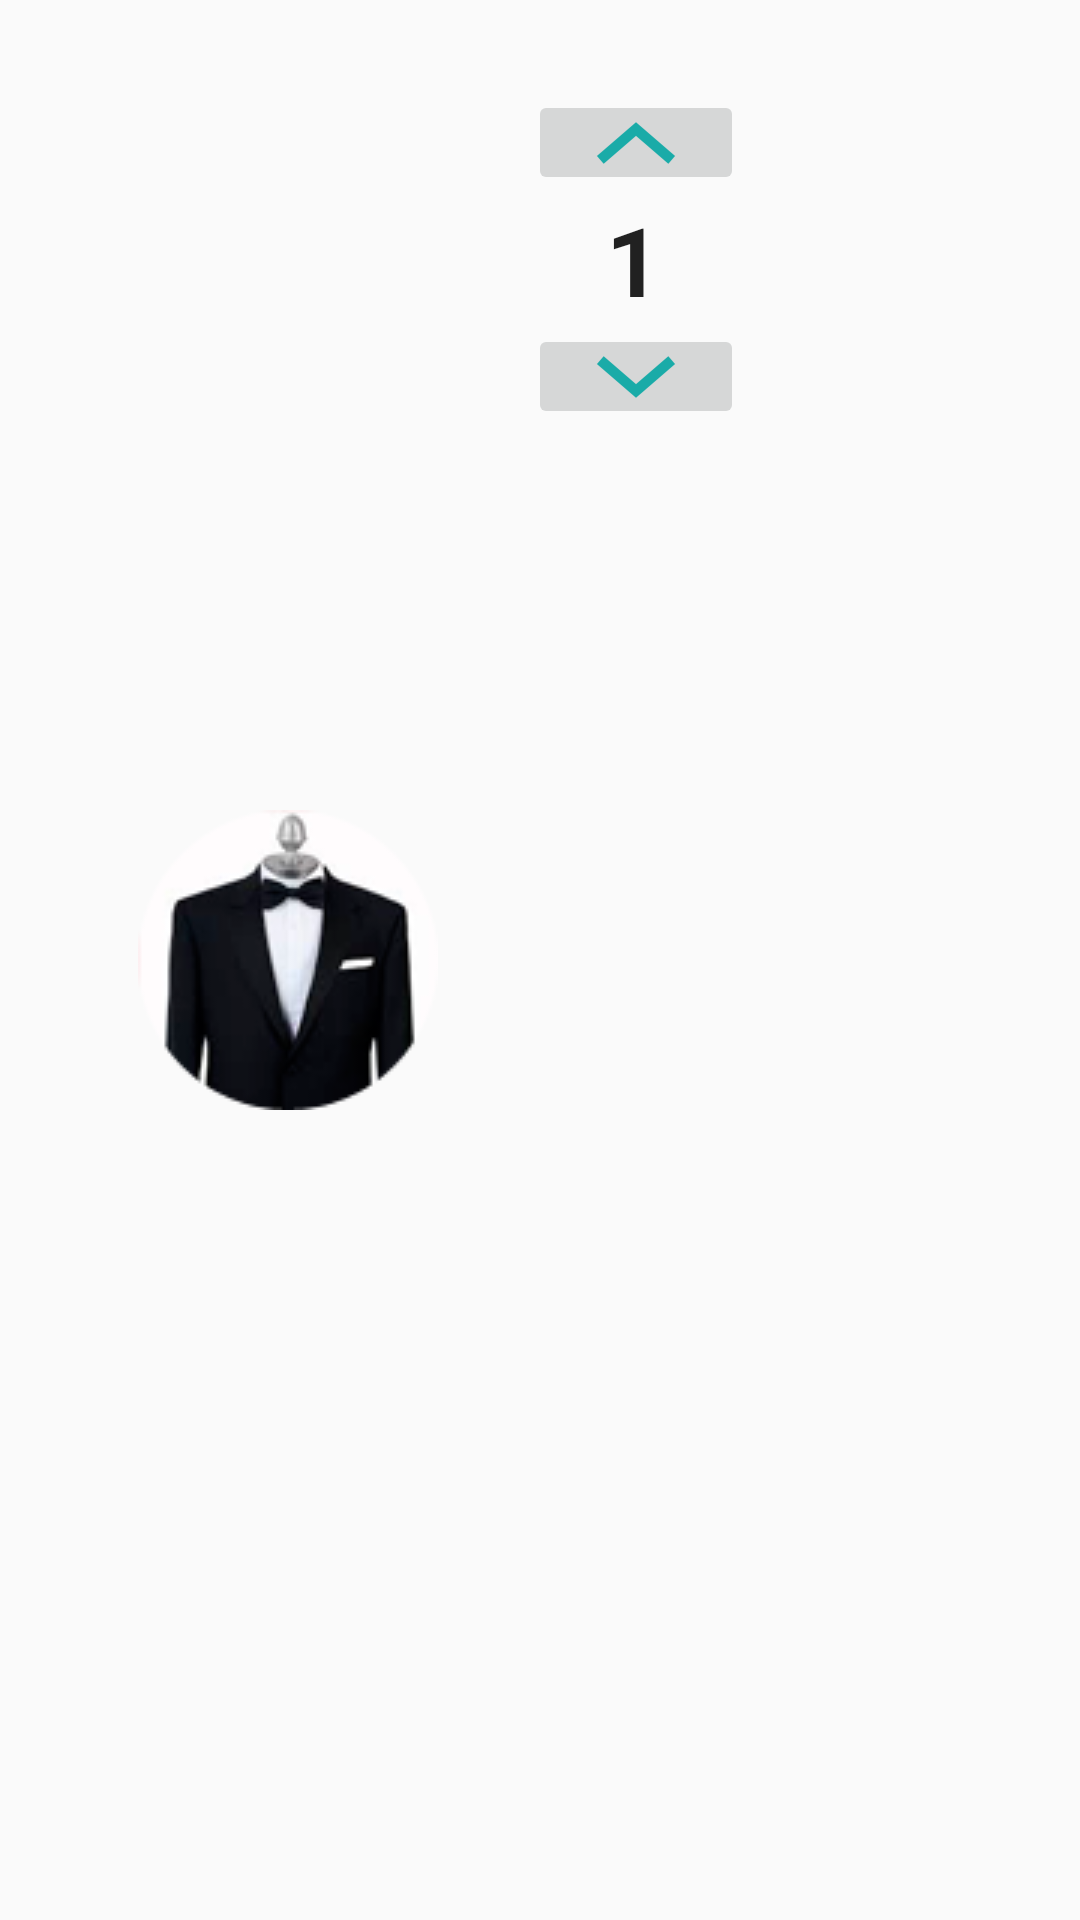

Where to tap for icons on this 1080px×1920px app screen, as (x=x, y=y):
down arrow: (x=636, y=376)
up arrow: (x=636, y=142)
